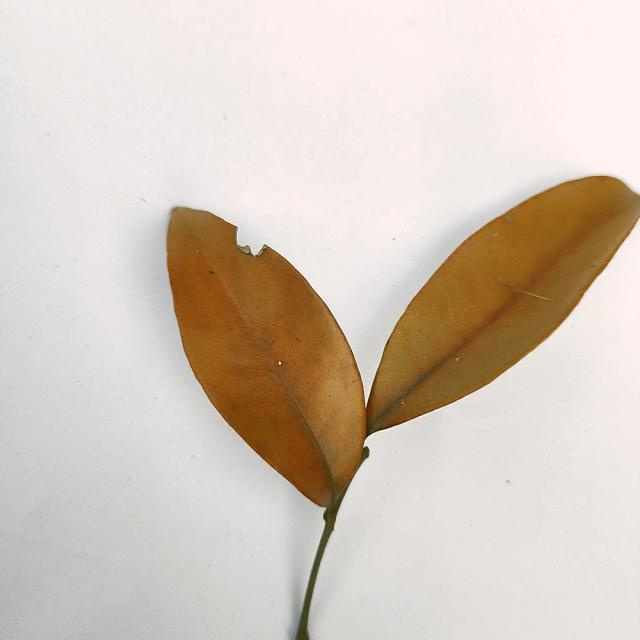Dry_Leaf-Lychee: (164, 176, 639, 632)
